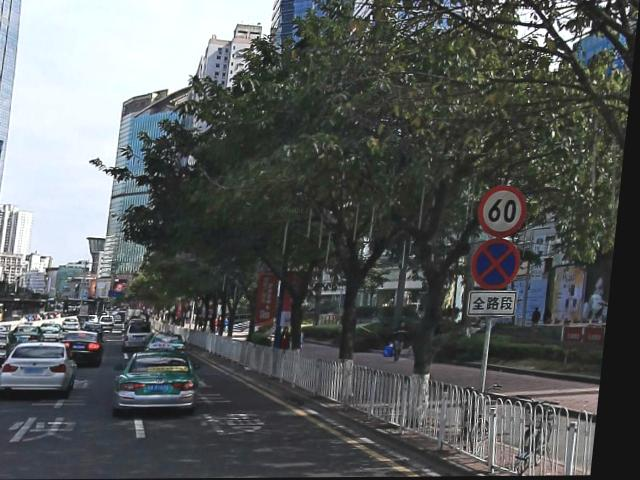limit60: (481, 184, 534, 238)
